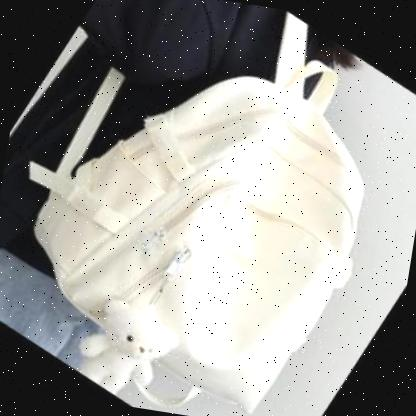bag: (1, 34, 387, 416)
